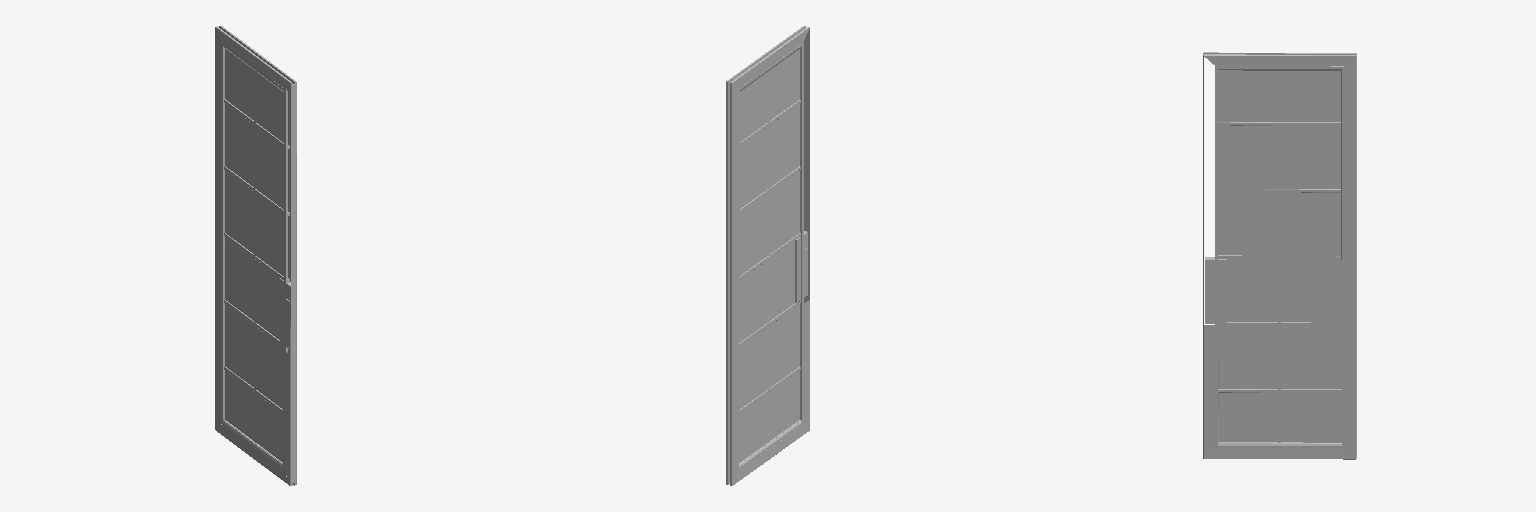
File: VentanaT2_8.obj
The picture shows the model from 3 angles: view 1: azimuth 30°, elevation 25°; view 2: azimuth 150°, elevation 25°; view 3: azimuth 270°, elevation 25°; orthographic projection.
Visible parts, largest first — view 1: Box2651; view 2: Box2651; view 3: Box2651.
Boxes of the visible parts, x1,y1,x2,y2 form: Box2651: [215, 26, 296, 485]; Box2651: [726, 26, 809, 485]; Box2651: [1203, 52, 1356, 459].
Bounding box in the file's own units: 0.0168 × 0.8935 × 0.3076.